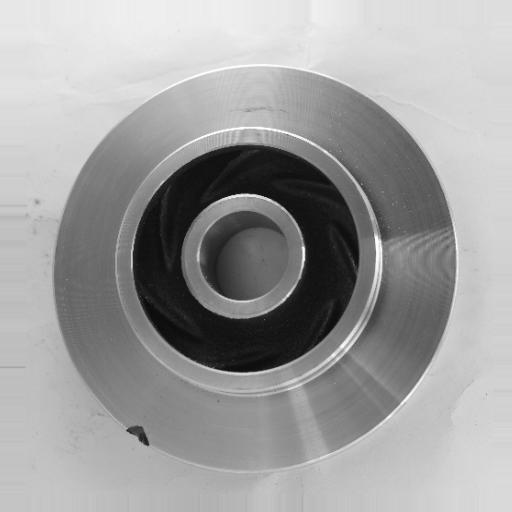crack: (119, 412, 164, 455)
unpolished_casting: (52, 61, 460, 475)
